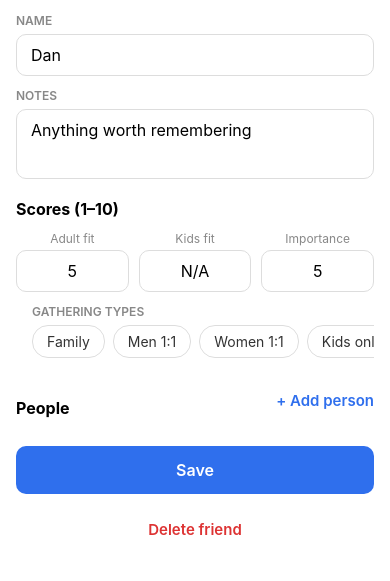
Test: FriendFormScreen (edit) › delete__fails__shows_error_and_stops_the_deleting_spinner
Check: the 1st field showing "Dan" is shown, box top-left (16, 34), bottom-right (374, 76)
Click the element with test id "delete-friend". click: (195, 530)
box: top-left (148, 520), bottom-right (242, 539)
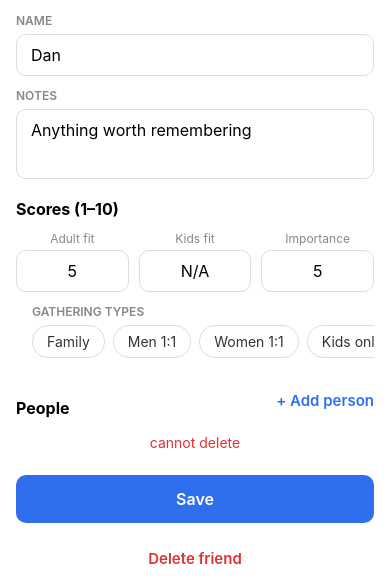
Check: the text "cannot delete" is shown, box top-left (150, 434), bottom-right (240, 451)
